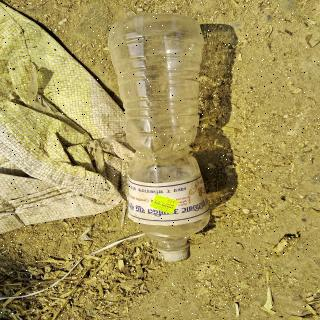Plastic-bottle: (104, 8, 259, 277)
